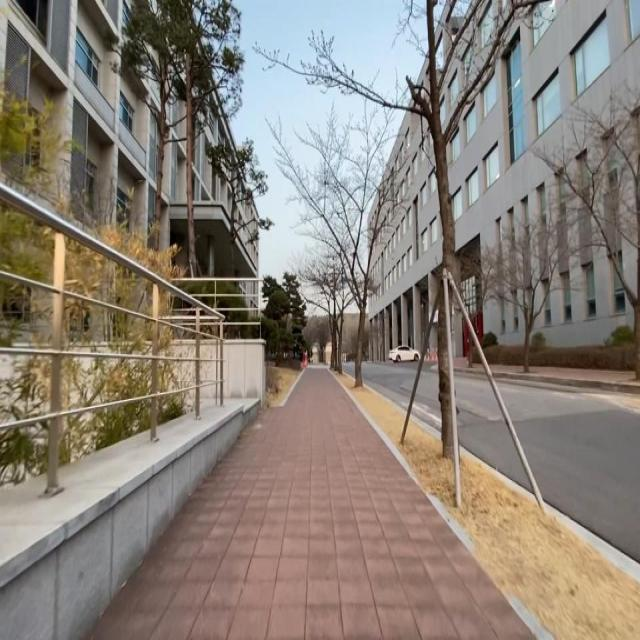sidewalk: (83, 364, 537, 640), (529, 366, 636, 382), (489, 365, 524, 372), (454, 358, 468, 367), (472, 363, 483, 369)
